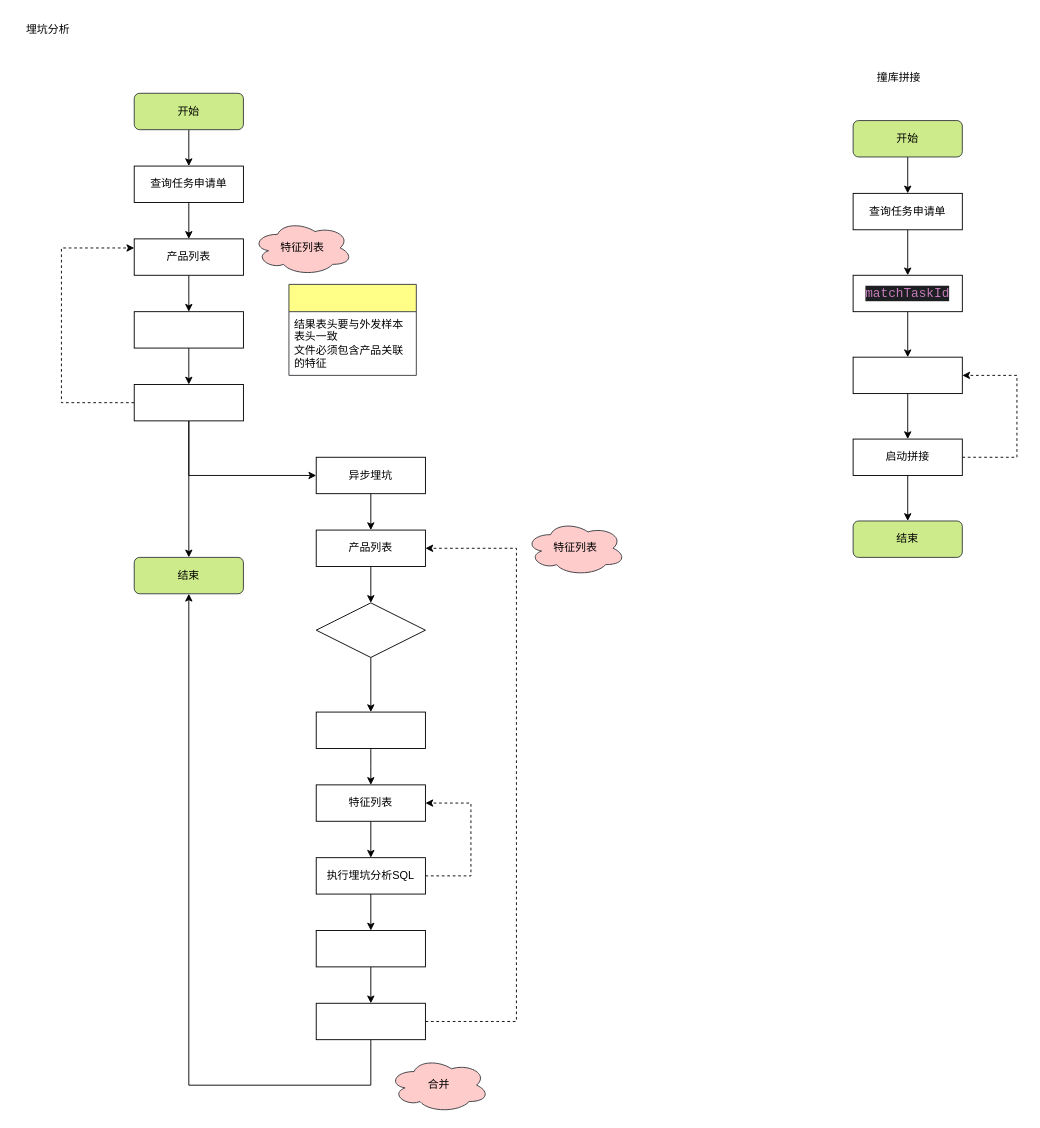
Image size: 1040x1128. Some labels were removed from this diagram. Here are the shapes that lost their labels. From the top down, the box of each, then its label:
(133, 311, 243, 348): 结果文件格式校验
(288, 283, 416, 375): 校验逻辑
(852, 356, 962, 394): 子任务列表
(133, 384, 243, 421): 持久化
(315, 602, 425, 657): 包含埋坑样本
(315, 711, 425, 748): 结果文件上传到hive
(315, 930, 425, 967): 历史回溯结果落表
(315, 1002, 425, 1040): 发送状态变更通知
